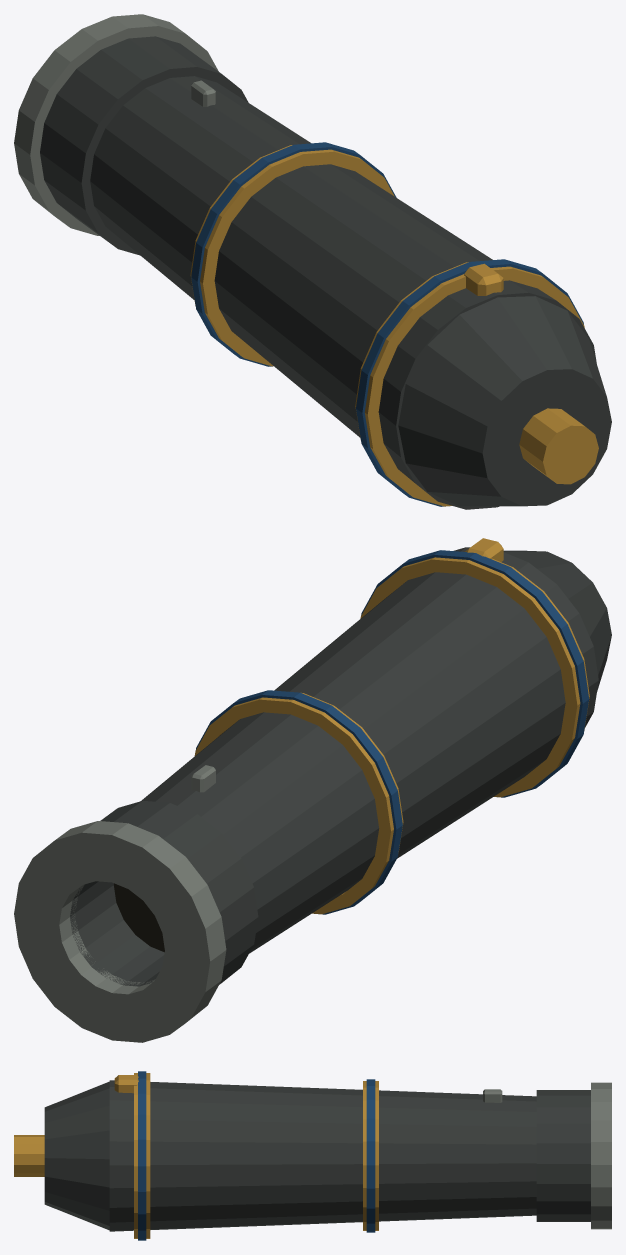
Rendered from barrel.glb.
The picture shows the model from 3 angles, top to bottom: view 1: azimuth 30°, elevation 25°; view 2: azimuth 150°, elevation 25°; view 3: azimuth 270°, elevation 25°; orthographic projection. The views are drawn at different scales.
Visible parts, largest first — view 1: Metal, Fabric; view 2: Metal, Fabric, Stone; view 3: Metal, Fabric.
Part boxes in pixels (x1,y1,x2,y2): Metal: [14, 14, 611, 509]; Fabric: [191, 142, 583, 506]; Metal: [14, 538, 611, 1042]; Fabric: [195, 550, 589, 914]; Stone: [113, 883, 164, 952]; Metal: [14, 1073, 611, 1238]; Fabric: [138, 1071, 375, 1240].
Size of the model in its own units: 1.05 by 1.06 by 3.68.
